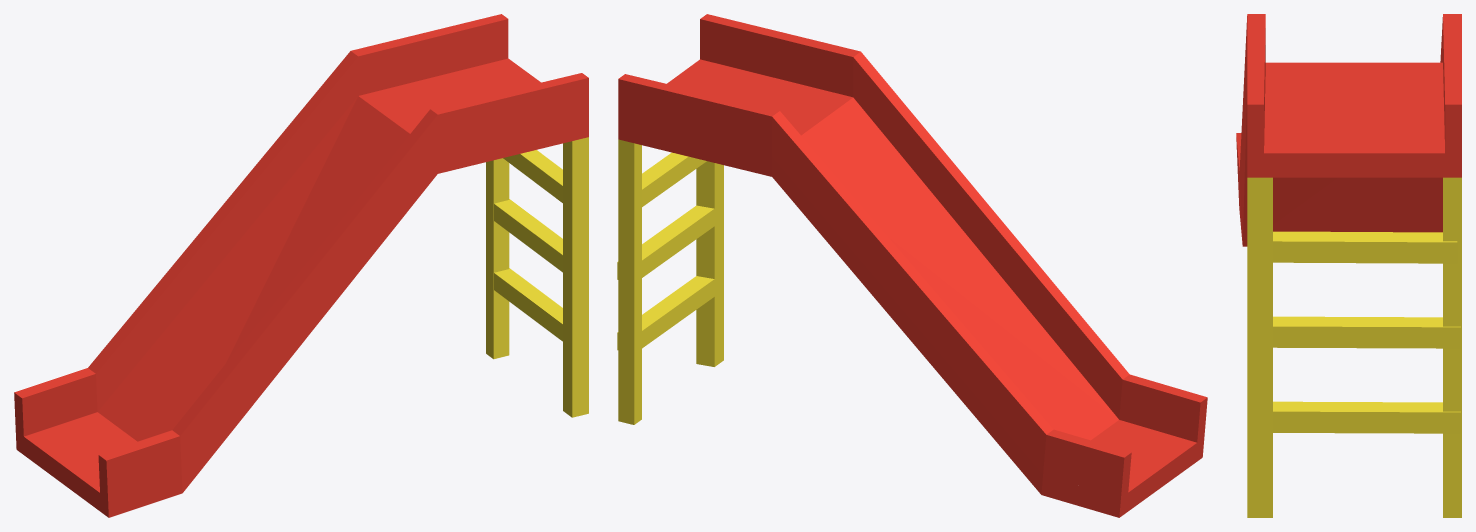
File: Slide.glb
3 views of the same model, side by side, from view 1: azimuth 30°, elevation 25°; view 2: azimuth 150°, elevation 25°; view 3: azimuth 270°, elevation 25° (orthographic). The views are drawn at different scales.
Visible parts, largest first — view 1: group2139467000; view 2: group2139467000; view 3: group2139467000.
Part boxes in pixels (x1=…): group2139467000: x1=14, y1=14, x2=588, y2=517; group2139467000: x1=617, y1=14, x2=1207, y2=517; group2139467000: x1=1236, y1=14, x2=1461, y2=517.
Bounding box in the file's own units: 0.2615 × 0.17 × 0.0841.
